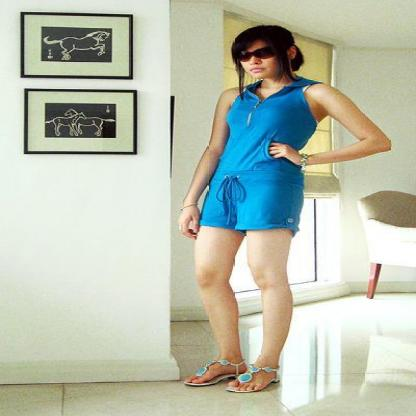dress: (200, 76, 319, 241)
shoe: (222, 358, 280, 391)
sunglass: (254, 42, 285, 59)
